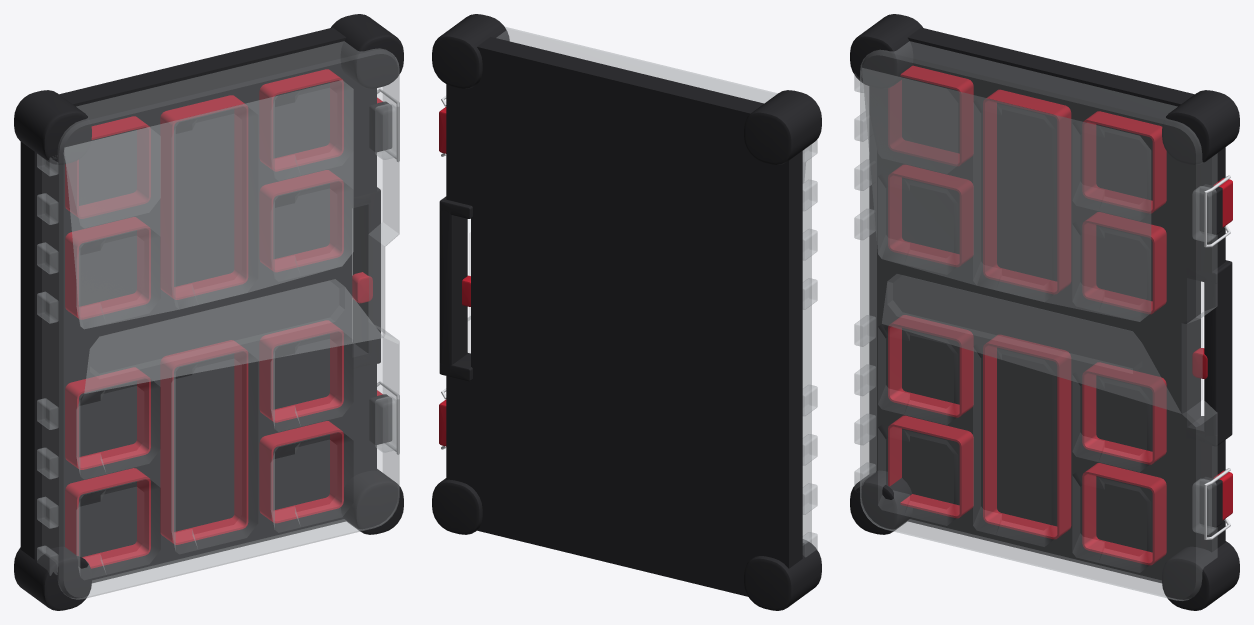
3 views of the same model, side by side, from view 1: azimuth 30°, elevation 25°; view 2: azimuth 150°, elevation 25°; view 3: azimuth 330°, elevation 25° (orthographic).
Visible parts, largest first — view 1: vicko_plast, zaklad, nadoba (×10), naraznik (×4), drzadlo_pricka, vicko_jazyk (×6), vicko_hacek (×2), zamek_pouzdro (×2), drzadlo_tlacitko; view 2: zaklad, naraznik (×4), vicko_plast, drzadlo_pricka, drzadlo_rameno_L; view 3: vicko_plast, zaklad, nadoba (×10), naraznik (×4), drzadlo_pricka, vicko_hacek (×2), vicko_jazyk (×4), zamek_pouzdro (×2).
Part boxes in pixels (left/top/right/bottom): vicko_plast: left=42, top=41, right=399, bottom=599; zaklad: left=20, top=27, right=376, bottom=583; nadoba (×10): left=65, top=69, right=343, bottom=568; naraznik (×4): left=14, top=14, right=403, bottom=610; drzadlo_pricka: left=352, top=192, right=380, bottom=363; vicko_jazyk (×6): left=37, top=193, right=58, bottom=528; vicko_hacek (×2): left=375, top=104, right=396, bottom=452; zamek_pouzdro (×2): left=369, top=101, right=391, bottom=444; drzadlo_tlacitko: left=352, top=272, right=372, bottom=303; zaklad: left=446, top=36, right=802, bottom=596; naraznik (×4): left=432, top=14, right=821, bottom=610; vicko_plast: left=467, top=27, right=811, bottom=544; drzadlo_pricka: left=439, top=199, right=467, bottom=375; drzadlo_rameno_L: left=439, top=353, right=472, bottom=381; vicko_plast: left=860, top=41, right=1217, bottom=600; zaklad: left=869, top=27, right=1225, bottom=583; nadoba (×10): left=888, top=65, right=1166, bottom=565; naraznik (×4): left=850, top=14, right=1239, bottom=610; drzadlo_pricka: left=1204, top=260, right=1232, bottom=444; vicko_hacek (×2): left=1192, top=186, right=1216, bottom=534; vicko_jazyk (×4): left=854, top=209, right=875, bottom=444; zamek_pouzdro (×2): left=1199, top=184, right=1222, bottom=527.
Bounding box in the file's own units: 380 × 500 × 64.
